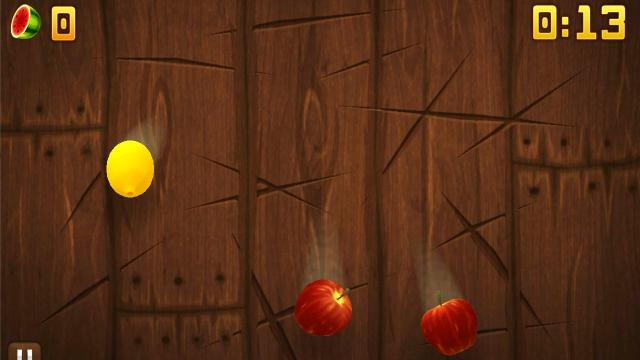fruit: (291, 279, 354, 337), (418, 296, 478, 354), (106, 138, 156, 198)
